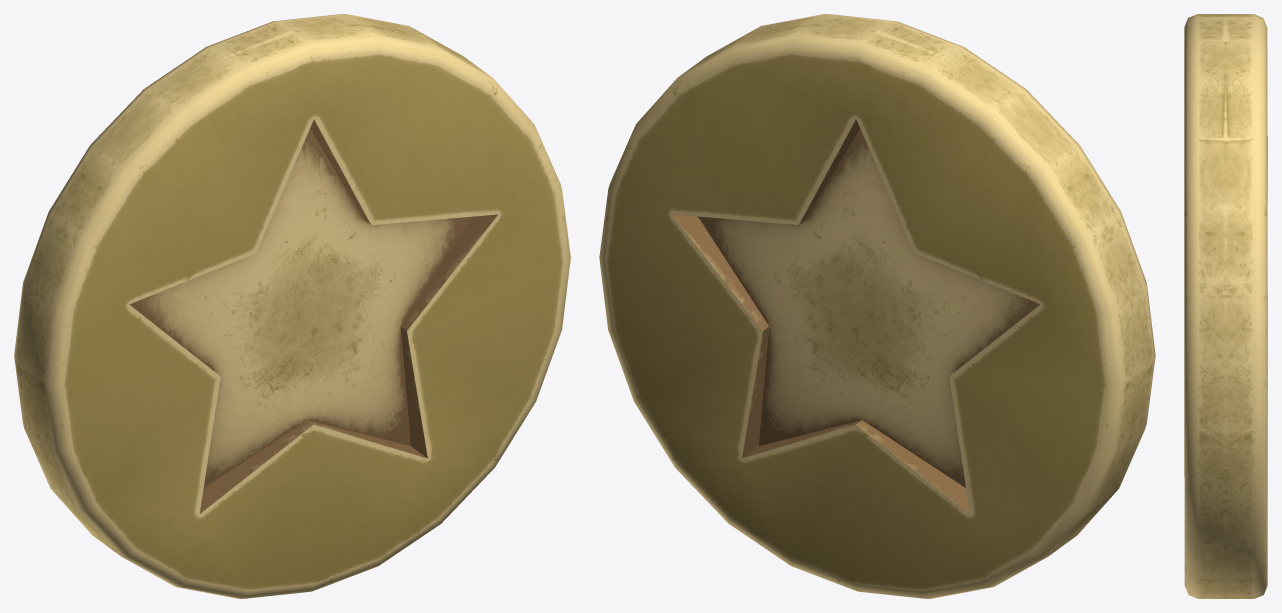
File: coin-hd.glb
3 renders of one model, left to right at view 1: azimuth 30°, elevation 25°; view 2: azimuth 150°, elevation 25°; view 3: azimuth 270°, elevation 25°, orthographic. The views are drawn at different scales.
Visible parts, largest first — view 1: Coin_0; view 2: Coin_0; view 3: Coin_0.
Boxes of the visible parts, x1,y1,x2,y2 form: Coin_0: [14, 14, 570, 598]; Coin_0: [599, 14, 1155, 598]; Coin_0: [1184, 14, 1267, 598].
Size of the model in its own units: 0.6185 by 0.6186 by 0.0881.
1 material, 1 textured.
